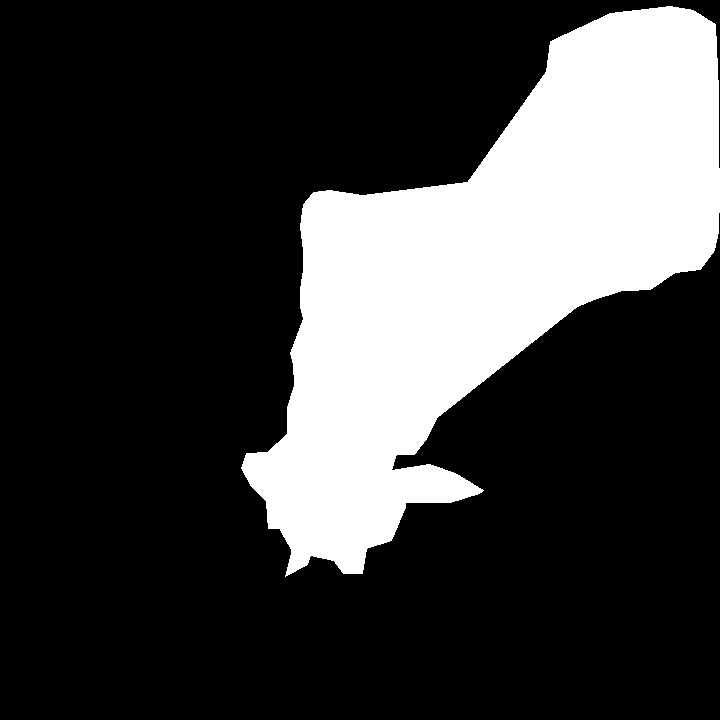Fire: (263, 189, 428, 583)
